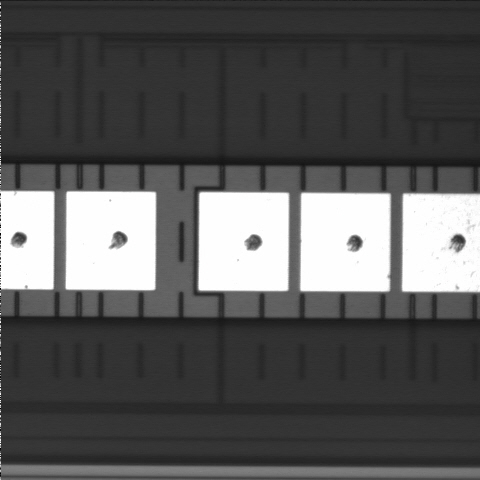pad: (199, 192, 289, 291), (66, 192, 156, 290), (300, 193, 390, 291)
